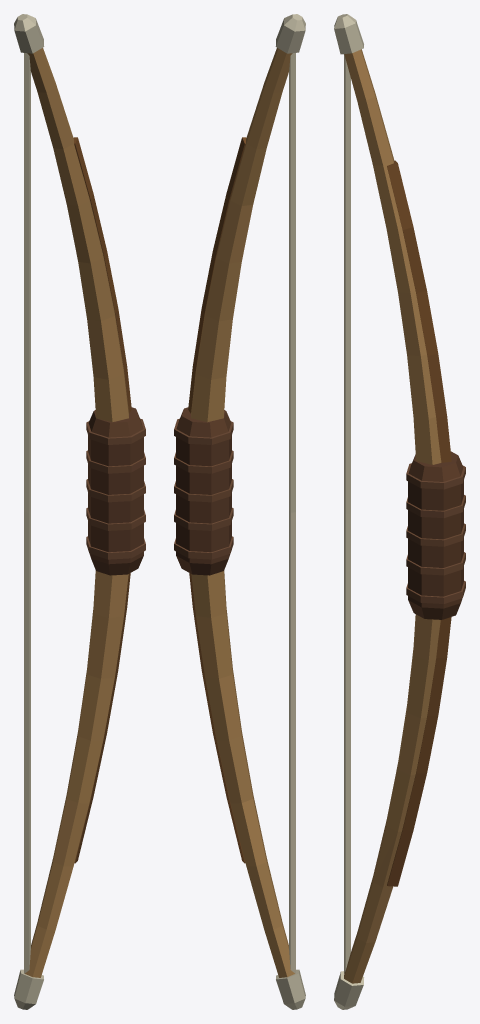
Rendered from weapon_bow_long.glb.
The picture shows the model from 3 angles, left to right: view 1: azimuth 30°, elevation 25°; view 2: azimuth 150°, elevation 25°; view 3: azimuth 330°, elevation 25°; orthographic projection.
Parts seen in each view (by area): view 1: weapon_bow_long, weapon_bow_long_string; view 2: weapon_bow_long, weapon_bow_long_string; view 3: weapon_bow_long, weapon_bow_long_string.
Boxes of the visible parts, box(x1,y1,x2,y2) form: weapon_bow_long: box(14, 14, 145, 1009); weapon_bow_long_string: box(24, 53, 30, 973); weapon_bow_long: box(174, 14, 305, 1009); weapon_bow_long_string: box(289, 53, 295, 973); weapon_bow_long: box(334, 14, 465, 1009); weapon_bow_long_string: box(344, 54, 350, 972).
Bounding box in the file's own units: 0.2466 × 1.82 × 0.1028.
